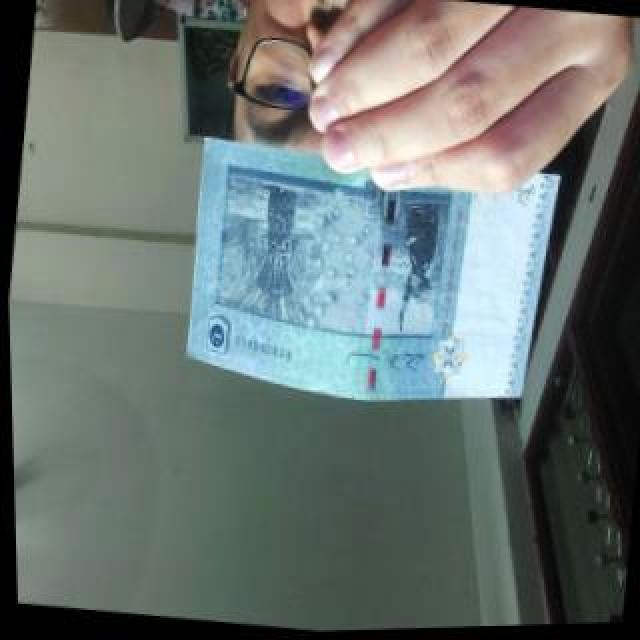50 Ringgit: (154, 114, 571, 430)
